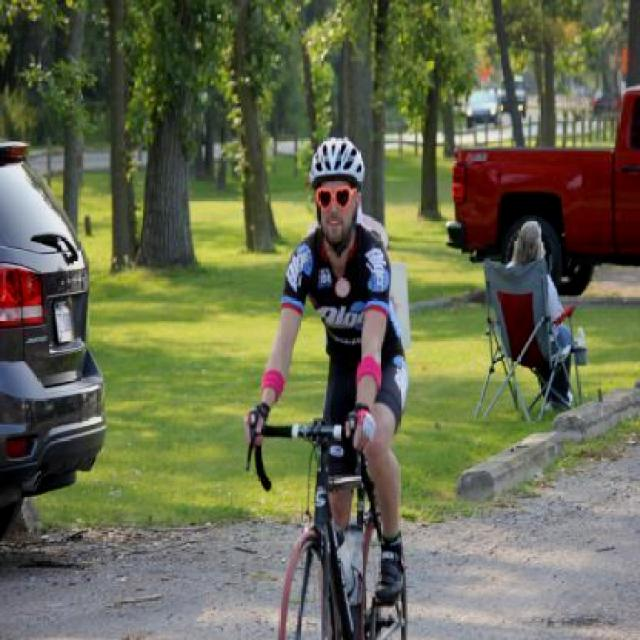face_nomask: (314, 182, 354, 233)
glasses: (316, 186, 359, 214)
hand_noglove: (338, 404, 379, 450), (239, 404, 272, 447)
head_helmet: (304, 130, 370, 187)
person: (258, 121, 418, 640)
